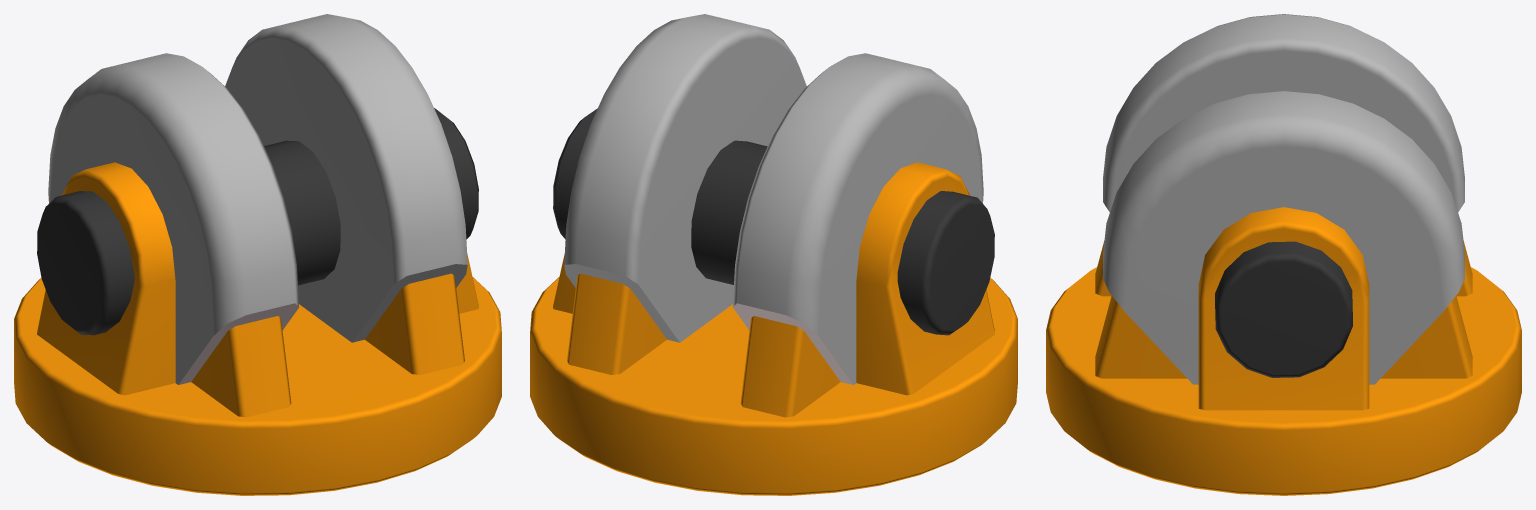
Rendered from obstacle_11_002.fbx.
3 renders of one model, left to right at view 1: azimuth 30°, elevation 25°; view 2: azimuth 150°, elevation 25°; view 3: azimuth 270°, elevation 25°, orthographic. The views are drawn at different scales.
Visible parts, largest first — view 1: obstacle_11_002; view 2: obstacle_11_002; view 3: obstacle_11_002.
Part boxes in pixels (x1,y1,x2,y2): obstacle_11_002: (14,14,501,495); obstacle_11_002: (530,14,1017,495); obstacle_11_002: (1046,14,1521,495).
Size of the model in its own units: 335 by 335 by 259.
